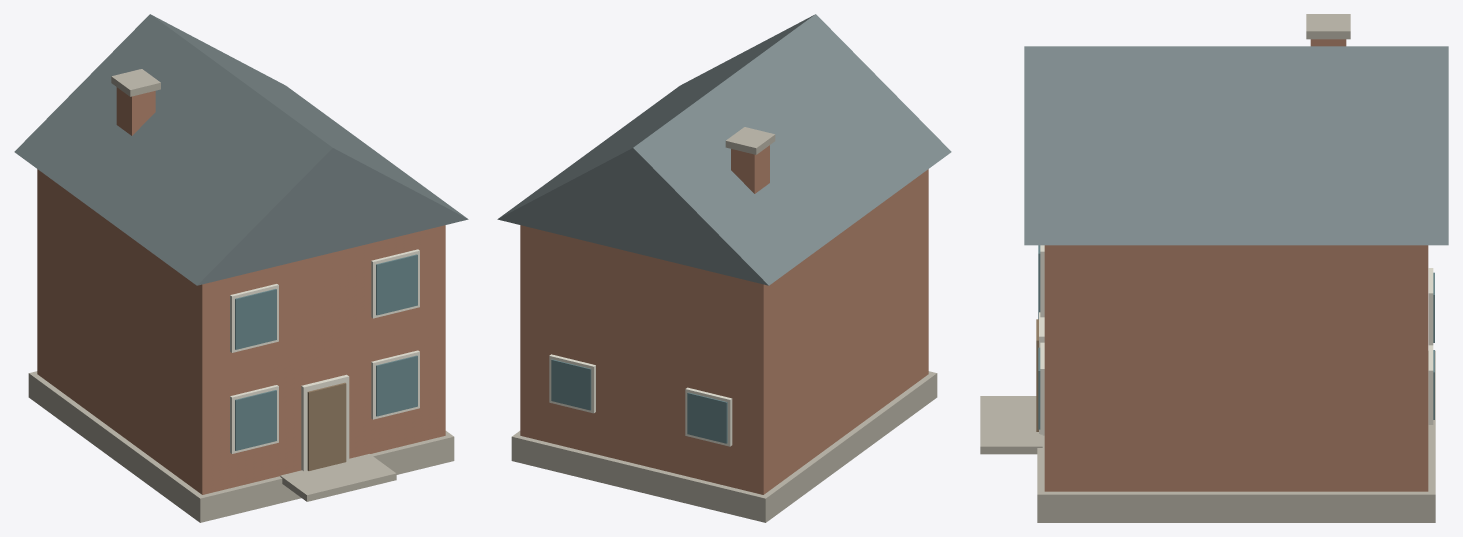
3 views of the same model, side by side, from view 1: azimuth 30°, elevation 25°; view 2: azimuth 150°, elevation 25°; view 3: azimuth 270°, elevation 25° (orthographic). The views are drawn at different scales.
Size of the model in its own units: 7.6 by 9.31 by 9.77.
